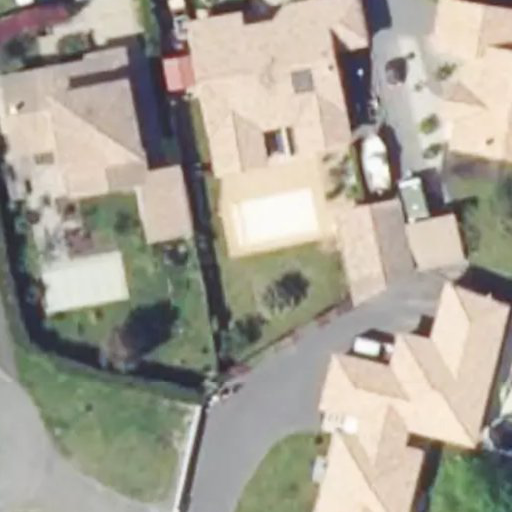pool: (214, 229, 297, 254)
